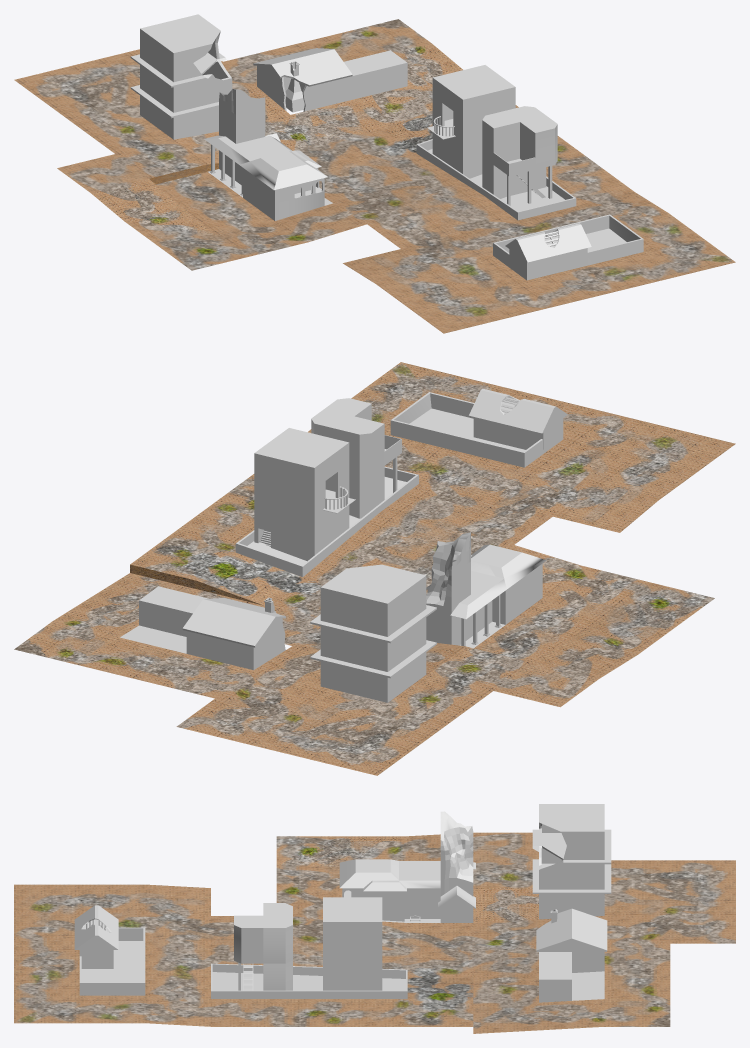
File: inferno.FBX
3 views of the same model, one above another, from view 1: azimuth 30°, elevation 25°; view 2: azimuth 150°, elevation 25°; view 3: azimuth 270°, elevation 25° (orthographic). The views are drawn at different scales.
Visible parts, largest first — view 1: floor, b03_b01body, Box001 (×2), Box002, b03_b02upper, Box003 (×2), b04_frontroof, b04_frontbody, b02_annex, b04_tower, b02_roof, Box007 (+6 smaller); view 2: floor, Box002, b03_b02upper, Box001 (×2), Box003 (×2), b03_b01body, Box007, b03_b02lower, b04_tower, b04_frontroof, b02_roof, b02_main (+8 smaller); view 3: floor, b03_b01body, b03_b02upper, Box001 (×2), Box002, b04_frontroof, Box003 (×2), b03_fence, b04_tower, b02_roof, b04_frontbody, Plane002 (+8 smaller).
Part boxes in pixels (bbox=[...]): floor: bbox=[14, 19, 735, 333]; b03_b01body: bbox=[482, 106, 557, 198]; Box001 (×2): bbox=[130, 53, 587, 280]; Box002: bbox=[130, 14, 226, 87]; b03_b02upper: bbox=[432, 65, 515, 142]; Box003 (×2): bbox=[140, 96, 591, 262]; b04_frontroof: bbox=[204, 135, 327, 190]; b04_frontbody: bbox=[236, 163, 324, 220]; b02_annex: bbox=[344, 50, 407, 100]; b04_tower: bbox=[219, 89, 265, 163]; b02_roof: bbox=[253, 48, 352, 86]; Box007: bbox=[493, 214, 643, 267]; floor: bbox=[14, 362, 735, 775]; Box002: bbox=[310, 564, 436, 643]; b03_b02upper: bbox=[254, 428, 349, 516]; Box001 (×2): bbox=[310, 417, 563, 678]; Box003 (×2): bbox=[320, 388, 567, 702]; b03_b01body: bbox=[311, 398, 384, 518]; Box007: bbox=[390, 392, 543, 467]; b03_b02lower: bbox=[254, 492, 349, 561]; b04_tower: bbox=[426, 532, 470, 630]; b04_frontroof: bbox=[426, 544, 546, 619]; b02_roof: bbox=[182, 598, 285, 647]; b02_main: bbox=[186, 618, 285, 670]; floor: bbox=[14, 832, 735, 1033]; b03_b01body: bbox=[234, 903, 292, 990]; b03_b02upper: bbox=[323, 897, 382, 963]; Box001 (×2): bbox=[79, 833, 611, 968]; Box002: bbox=[532, 804, 611, 864]; b04_frontroof: bbox=[339, 859, 475, 891]; Box003 (×2): bbox=[74, 894, 604, 949]; b03_fence: bbox=[211, 963, 407, 998]; b04_tower: bbox=[440, 811, 473, 896]; b02_roof: bbox=[536, 908, 607, 951]; b04_frontbody: bbox=[342, 888, 440, 921]; Plane002: bbox=[81, 941, 143, 982].
Size of the model in its own units: 35000 by 8270 by 55000.
